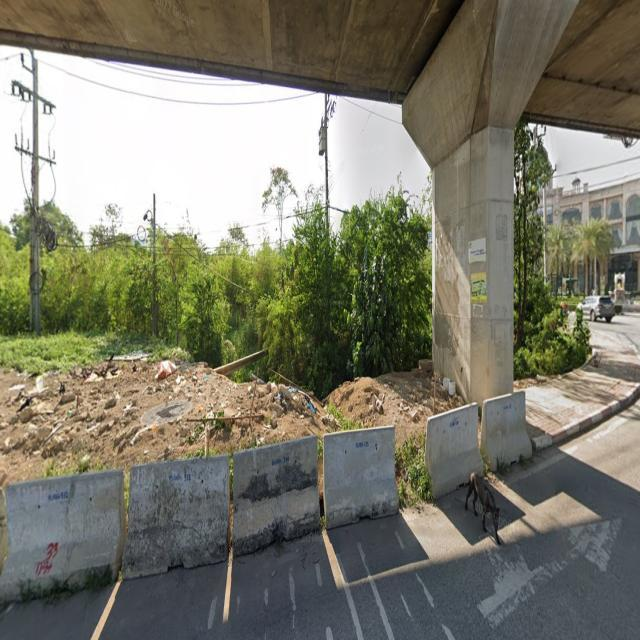fallen_object: (97, 446, 238, 576), (0, 469, 140, 593), (215, 435, 344, 568), (306, 416, 424, 530), (405, 380, 505, 501), (440, 459, 542, 548), (476, 389, 546, 475)
